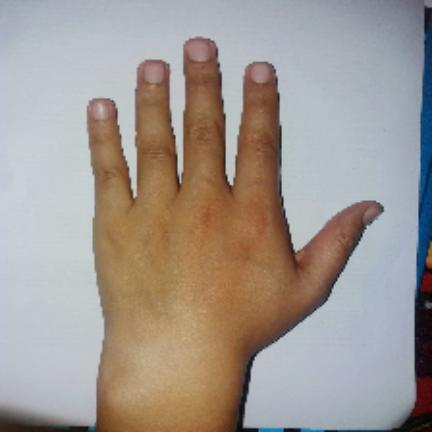Nail: (187, 37, 211, 62), (143, 60, 165, 83), (250, 61, 272, 84), (362, 202, 383, 226), (90, 99, 110, 120)
